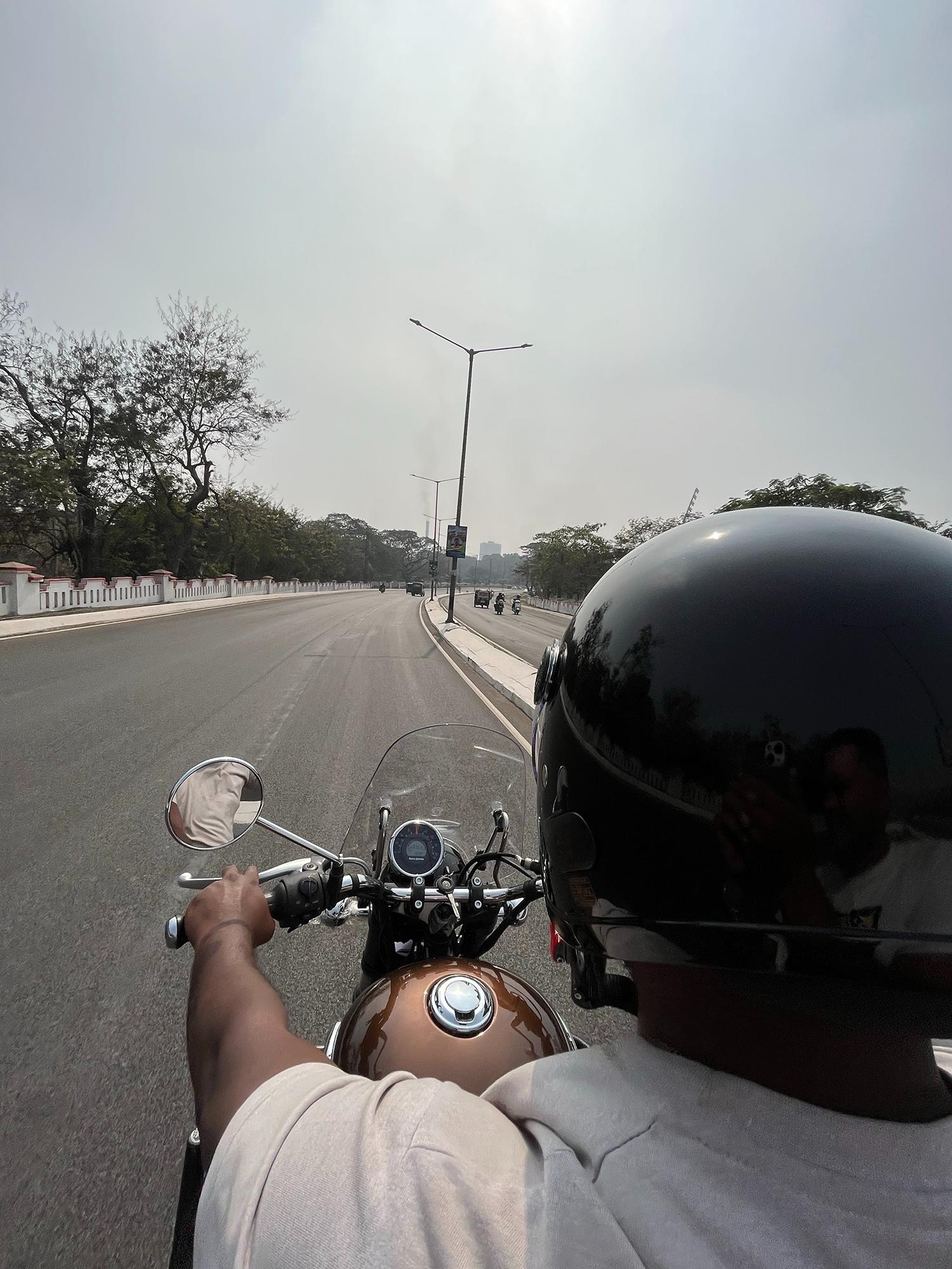helmet: (529, 501, 952, 1044)
